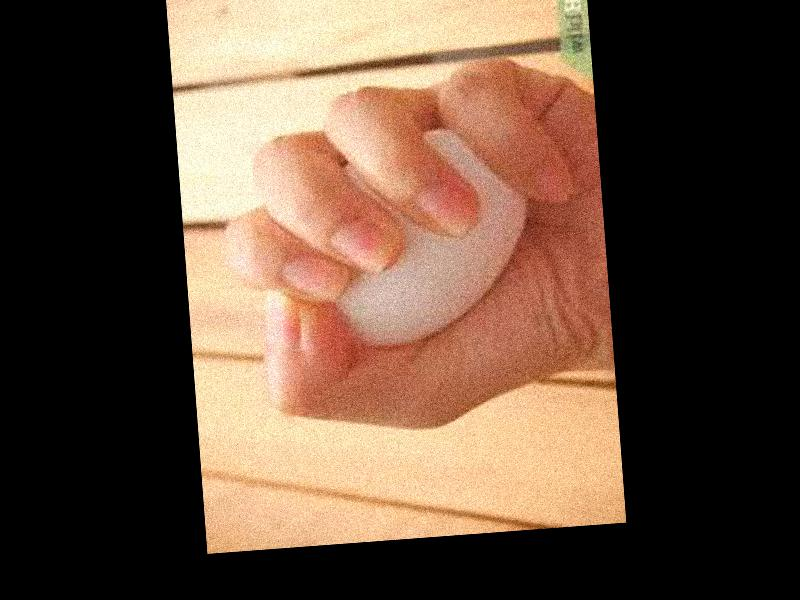Eggs: (323, 121, 536, 351)
